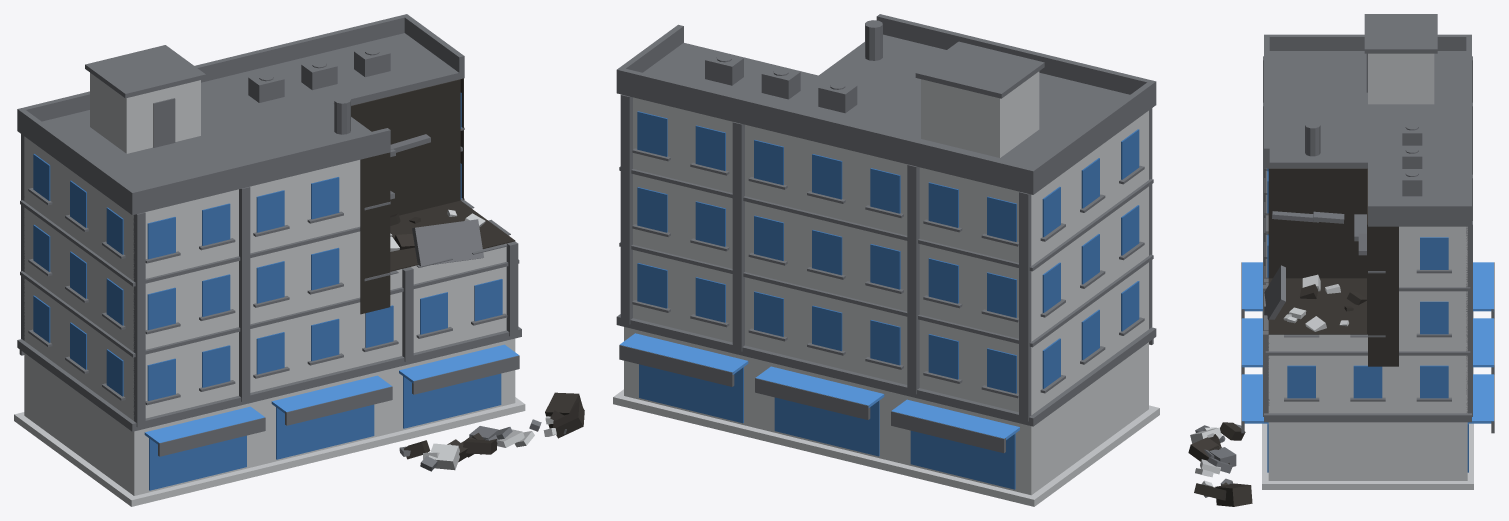
File: Building_Block_02_Damaged.fbx
3 renders of one model, left to right at view 1: azimuth 30°, elevation 25°; view 2: azimuth 150°, elevation 25°; view 3: azimuth 270°, elevation 25°, orthographic. The views are drawn at different scales.
Parts seen in each view (by area): view 1: Building_Block_02_Damaged_Trim, Building_Block_02_Damaged_Structure, Building_Block_02_Damaged_Windows, Building_Block_02_Damaged_Scorched, Building_Block_02_Damaged_Accent; view 2: Building_Block_02_Damaged_Structure, Building_Block_02_Damaged_Trim, Building_Block_02_Damaged_Windows, Building_Block_02_Damaged_Accent; view 3: Building_Block_02_Damaged_Trim, Building_Block_02_Damaged_Structure, Building_Block_02_Damaged_Scorched, Building_Block_02_Damaged_Accent, Building_Block_02_Damaged_Windows.
Part boxes in pixels (x1,y1,x2,y2): Building_Block_02_Damaged_Trim: [17, 14, 566, 471]; Building_Block_02_Damaged_Structure: [14, 73, 556, 506]; Building_Block_02_Damaged_Windows: [33, 93, 502, 490]; Building_Block_02_Damaged_Scorched: [351, 78, 584, 462]; Building_Block_02_Damaged_Accent: [144, 344, 519, 444]; Building_Block_02_Damaged_Structure: [613, 71, 1159, 506]; Building_Block_02_Damaged_Trim: [616, 14, 1156, 453]; Building_Block_02_Damaged_Windows: [637, 111, 1139, 489]; Building_Block_02_Damaged_Accent: [620, 333, 1019, 439]; Building_Block_02_Damaged_Trim: [1195, 14, 1494, 497]; Building_Block_02_Damaged_Structure: [1190, 53, 1473, 489]; Building_Block_02_Damaged_Scorched: [1188, 168, 1398, 506]; Building_Block_02_Damaged_Accent: [1242, 262, 1493, 423]; Building_Block_02_Damaged_Windows: [1267, 168, 1468, 472].
Bounding box in the file's own units: 20.63 × 16.6 × 13.85.
